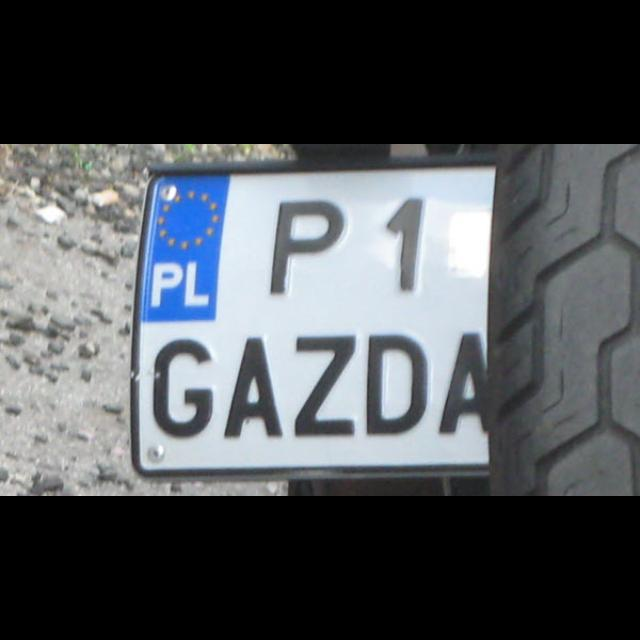license-plates: (132, 161, 496, 476)
